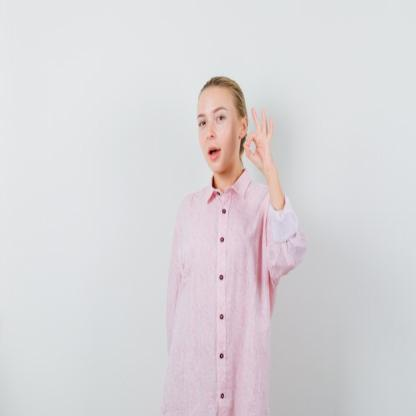ok: (242, 102, 277, 168)
